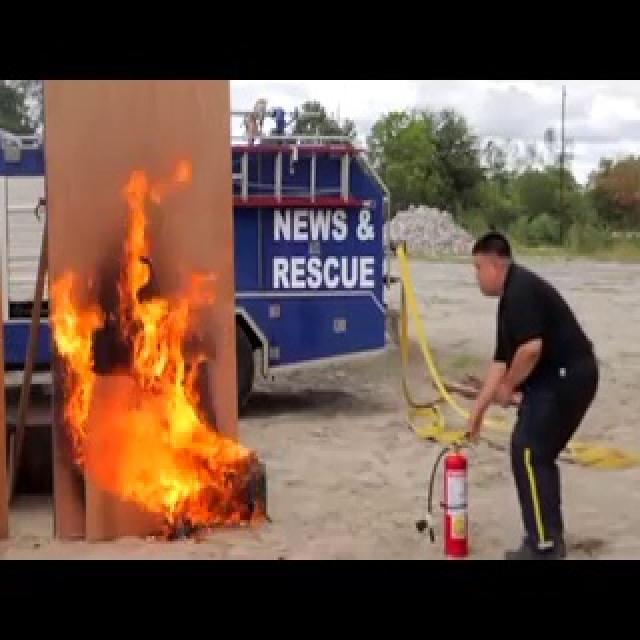fire: (43, 144, 267, 539)
